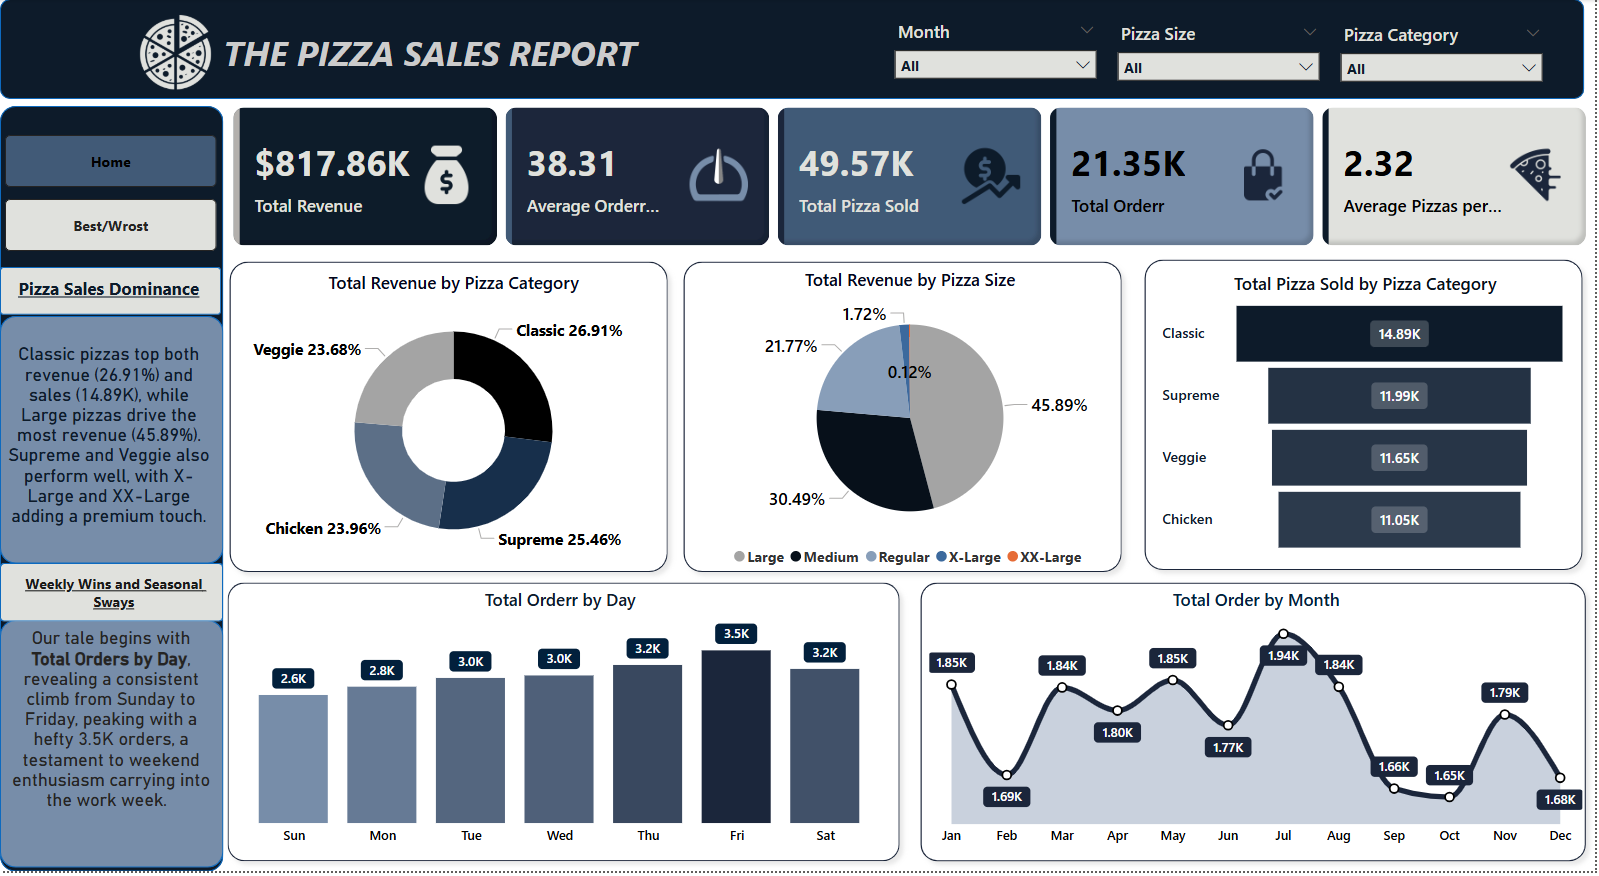

The page's visual inventory and layout, read from the dashboard file:
{"tool":"powerbi","page":{"name":"Home","canvas":[1500,820],"ordinal":0},"visuals":[{"type":"shape","box":[0,0,1490.7,94.1],"z":0},{"type":"shape","box":[0,252.2,210,45.5],"z":0,"group":"g8"},{"type":"shape","box":[0,298,209.9,232.6],"z":0,"group":"g10"},{"type":"shape","box":[0,530.3,209.9,55],"z":0,"group":"g12"},{"type":"shape","box":[856.3,539.8,643.7,280.1],"z":0,"group":"g2"},{"type":"shape","box":[0,584.1,209.9,232.6],"z":0,"group":"g11"},{"type":"shape","box":[0,100.3,209.9,719.5],"z":1000},{"type":"textbox","box":[0,257.4,204.7,35.1],"z":1000,"group":"g8"},{"type":"textbox","box":[0,318.7,204.7,214],"z":1000,"group":"g10"},{"type":"textbox","box":[5.2,536.2,204.7,48.6],"z":1000,"group":"g12"},{"type":"lineChart","title":"Total Order by Month","fields":{"Category":["Date Table.Month Name"],"Y":["Measures .Total Orderr"]},"box":[868.1,554.2,624.8,251.3],"z":1000,"group":"g2"},{"type":"textbox","box":[5.2,586,199.5,227.4],"z":1000,"group":"g11"},{"type":"cardVisual","fields":{"Data":["Measures .Total Revenue","Measures .Average Orderr Value","Measures .Total Pizza Sold","Measures .Total Orderr","Measures .Average Pizzas per orderr"]},"box":[214,97.2,1286,140.6],"z":2000},{"type":"textbox","box":[204.7,22.7,463.1,53.8],"z":3000},{"type":"shape","box":[206.7,237.5,430,310],"z":3000,"group":"g5"},{"type":"group","id":"g1","title":"Group 1","box":[204.7,539.6,650,280],"z":3000,"group":"g6"},{"type":"shape","box":[204.7,539.6,650,280],"z":3000,"group":"g1"},{"type":"slicer","fields":{"Values":["pizza_sales.pizza_category"]},"box":[1250.9,17.6,209.9,68.2],"z":4000},{"type":"group","id":"g2","title":"Group 2","box":[856.3,539.8,644,280],"z":4000,"group":"g6"},{"type":"clusteredColumnChart","title":"Total Orderr by Day","fields":{"Category":["Date Table.Day Name"],"Y":["Measures .Total Orderr"]},"box":[204.7,554,643.7,251.2],"z":4000,"group":"g1"},{"type":"group","id":"g3","title":"Group 7","box":[206.7,236,1290.5,311.5],"z":5000},{"type":"group","id":"g4","title":"Group 3","box":[633.7,237.5,436.4,310],"z":5000,"group":"g3"},{"type":"group","id":"g5","title":"Group 4","box":[206.7,237.5,430,310],"z":6000,"group":"g3"},{"type":"shape","box":[633.7,237.5,430,310],"z":6000,"group":"g4"},{"type":"group","id":"g6","title":"Group 8","box":[204.7,539.6,1295.7,280.2],"z":6000},{"type":"slicer","fields":{"Values":["pizza_sales.pizza_size"]},"box":[1041,16.5,209.9,68.2],"z":7000},{"type":"group","id":"g7","title":"Group 5","box":[1067.1,236,430,310.1],"z":7000,"group":"g3"},{"type":"shape","box":[1067.1,236,429.9,310],"z":7000,"group":"g9"},{"type":"slicer","fields":{"Values":["Date Table.Month Name"]},"box":[831.2,15.5,209.9,68.2],"z":8000},{"type":"donutChart","title":"Total Revenue by Pizza Category","fields":{"Category":["pizza_sales.pizza_category"],"Y":["Measures .Total Revenue"]},"box":[221.5,255.6,409.4,279.1],"z":8000,"group":"g5"},{"type":"image","box":[125.1,0,79.6,100.3],"z":9000},{"type":"pieChart","title":"Total Revenue by Pizza Size","fields":{"Category":["pizza_sales.pizza_size"],"Y":["Measures .Total Revenue"]},"box":[641.1,252.2,429,290.4],"z":9000,"group":"g4"},{"type":"funnel","title":"Total Pizza Sold by Pizza Category","fields":{"Category":["pizza_sales.pizza_category"],"Y":["Measures .Total Pizza Sold"]},"box":[1087.8,256.7,391.8,270.3],"z":9001,"group":"g9"},{"type":"group","id":"g8","title":"Group 9","box":[0,252.2,210,45.5],"z":10000},{"type":"group","id":"g9","title":"Group 6","box":[1067.1,236,430,310.1],"z":10001,"group":"g7"},{"type":"group","id":"g10","title":"Group 9","box":[0,298,209.9,234.7],"z":11000},{"type":"group","id":"g11","title":"Group 9","box":[0,584.1,209.9,232.6],"z":12000},{"type":"group","id":"g12","title":"Group 9","box":[0,530.3,209.9,55],"z":13000},{"type":"pageNavigator","box":[5.2,128.2,199.5,49.6],"z":13001},{"type":"pageNavigator","box":[5.2,188.1,199.5,49.6],"z":13002}]}

Visuals, with their boxes in screenshot pixels (x1, y1, x2, y2), scaled from the page's 1500x820 canvas onto the 1599x876 screenshot:
shape: <bbox>0, 0, 1589, 101</bbox>
shape: <bbox>0, 269, 224, 318</bbox>
shape: <bbox>0, 318, 224, 567</bbox>
shape: <bbox>0, 567, 224, 625</bbox>
shape: <bbox>913, 577, 1598, 875</bbox>
shape: <bbox>0, 624, 224, 872</bbox>
shape: <bbox>0, 107, 224, 875</bbox>
textbox: <bbox>0, 275, 218, 312</bbox>
textbox: <bbox>0, 340, 218, 569</bbox>
textbox: <bbox>6, 573, 224, 625</bbox>
"Total Order by Month" lineChart: <bbox>925, 592, 1591, 861</bbox>
textbox: <bbox>6, 626, 218, 869</bbox>
cardVisual - Measures .Total Revenue x Measures .Average Orderr Value: <bbox>228, 104, 1598, 254</bbox>
textbox: <bbox>218, 24, 712, 82</bbox>
shape: <bbox>220, 254, 679, 585</bbox>
"Group 1" group: <bbox>218, 576, 911, 875</bbox>
shape: <bbox>218, 576, 911, 875</bbox>
slicer - pizza_sales.pizza_category: <bbox>1333, 19, 1557, 92</bbox>
"Group 2" group: <bbox>913, 577, 1598, 875</bbox>
"Total Orderr by Day" clusteredColumnChart: <bbox>218, 592, 904, 860</bbox>
"Group 7" group: <bbox>220, 252, 1596, 585</bbox>
"Group 3" group: <bbox>676, 254, 1141, 585</bbox>
"Group 4" group: <bbox>220, 254, 679, 585</bbox>
shape: <bbox>676, 254, 1134, 585</bbox>
"Group 8" group: <bbox>218, 576, 1598, 875</bbox>
slicer - pizza_sales.pizza_size: <bbox>1110, 18, 1333, 90</bbox>
"Group 5" group: <bbox>1138, 252, 1596, 583</bbox>
shape: <bbox>1138, 252, 1596, 583</bbox>
slicer - Date Table.Month Name: <bbox>886, 17, 1110, 89</bbox>
"Total Revenue by Pizza Category" donutChart: <bbox>236, 273, 673, 571</bbox>
image: <bbox>133, 0, 218, 107</bbox>
"Total Revenue by Pizza Size" pieChart: <bbox>683, 269, 1141, 580</bbox>
"Total Pizza Sold by Pizza Category" funnel: <bbox>1160, 274, 1577, 563</bbox>
"Group 9" group: <bbox>0, 269, 224, 318</bbox>
"Group 6" group: <bbox>1138, 252, 1596, 583</bbox>
"Group 9" group: <bbox>0, 318, 224, 569</bbox>
"Group 9" group: <bbox>0, 624, 224, 872</bbox>
"Group 9" group: <bbox>0, 567, 224, 625</bbox>
pageNavigator: <bbox>6, 137, 218, 190</bbox>
pageNavigator: <bbox>6, 201, 218, 254</bbox>
